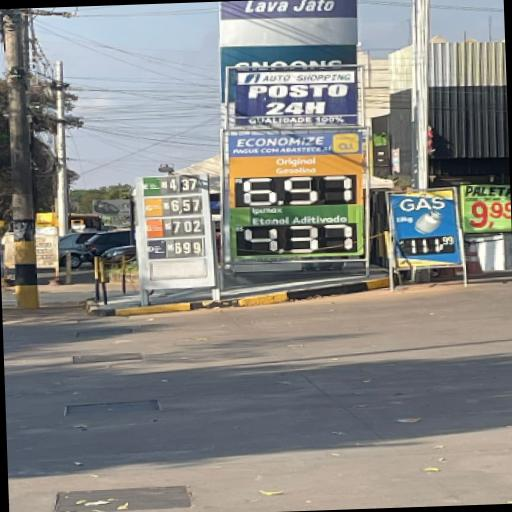ETANOL: (143, 178, 161, 195)
GASOLINA AD: (145, 219, 164, 237)
GASOLINA C: (145, 198, 162, 215)
S10: (148, 241, 166, 257)
placa: (136, 173, 213, 288)
preco: (169, 196, 201, 214), (173, 238, 203, 257), (166, 175, 199, 192), (170, 217, 203, 234)
